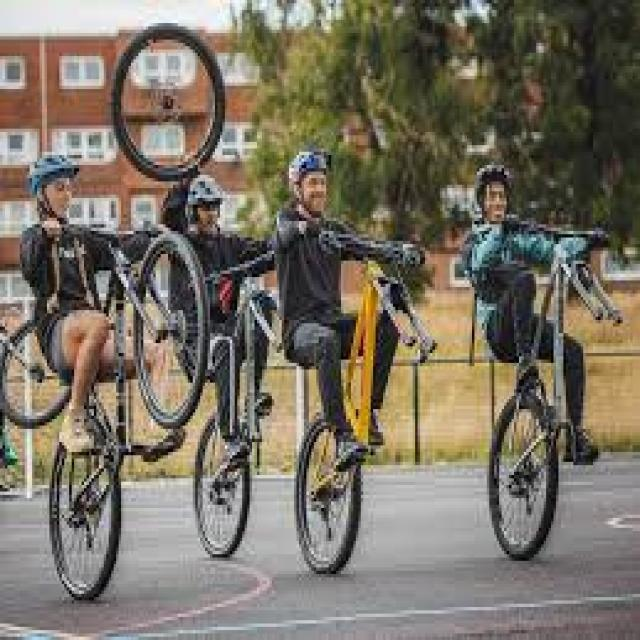Wheeling: (26, 159, 172, 603), (280, 156, 426, 580), (469, 157, 616, 563), (174, 155, 269, 562)
